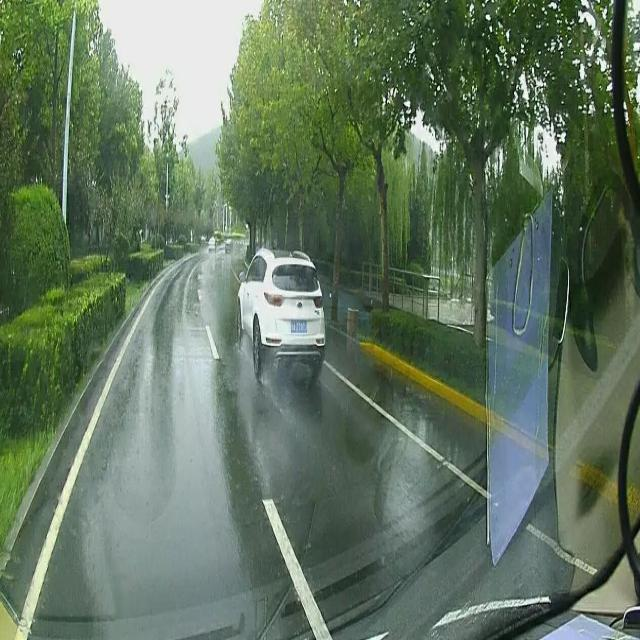car: (234, 244, 325, 381)
